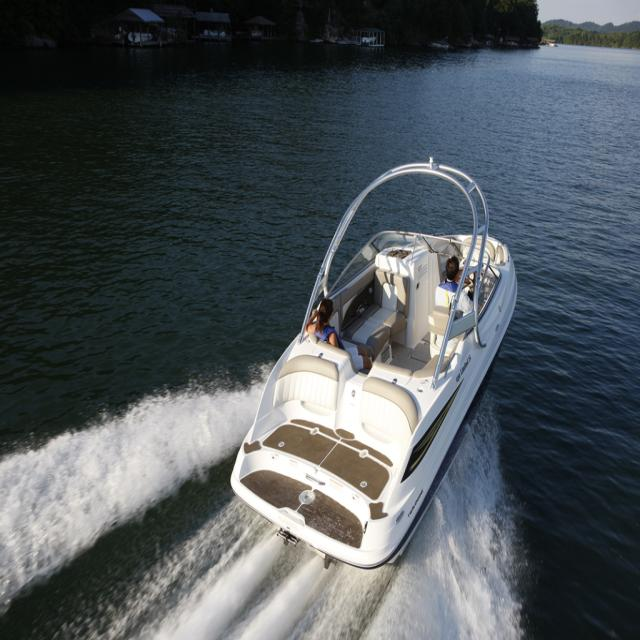Boat: (214, 147, 519, 570)
